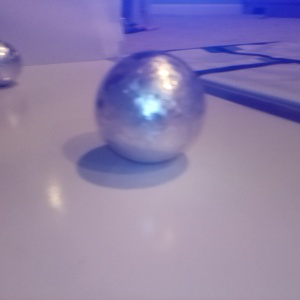alive_ball: (95, 50, 205, 163), (1, 39, 22, 85)
